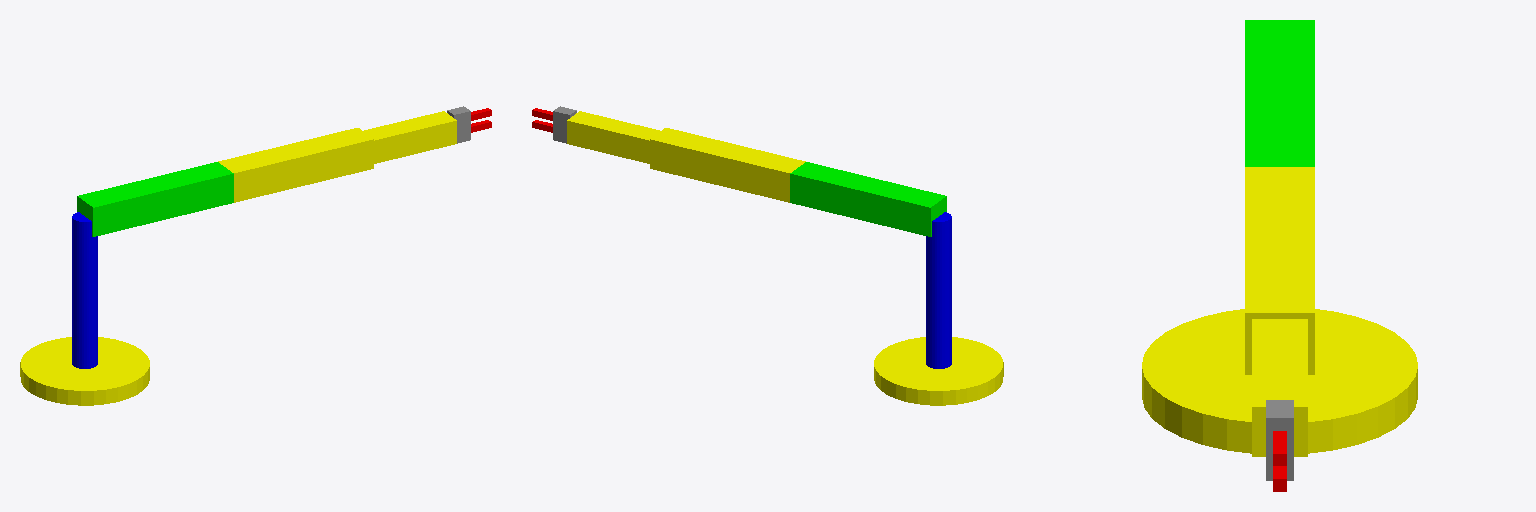
robot.urdf — simple_robot_with_gripper:
<?xml version="1.0"?>
<robot name="simple_robot_with_gripper">

  <link name="base_link">
    <visual>
      <geometry>
        <cylinder length="0.05" radius="0.2"/>
      </geometry>
      <origin rpy="0 0 0" xyz="0 0 0"/>
      <material name="yellow">
        <color rgba="1 1 0 1"/>
      </material>
    </visual>
  </link>

  <joint name="joint_1" type="revolute">
    <parent link="base_link"/>
    <child link="first_link"/>
    <origin xyz="0 0 0.025"/>
    <axis xyz="0 0 1"/>
    <limit effort="300" velocity="2.0" lower="-2.2" upper="2.2"/>
  </joint>

  <link name="first_link">
    <visual>
      <geometry>
        <cylinder length="0.5" radius="0.04"/>
      </geometry>
      <origin rpy="0 0 0" xyz="0 0 0.25"/>
      <material name="blue">
        <color rgba="0 0 1 1"/>
      </material>
    </visual>
  </link>

  <joint name="joint_2" type="revolute">
    <parent link="first_link"/>
    <child link="second_link"/>
    <origin xyz="0 0 0.5" rpy="1.57079633 0 0"/>
    <axis xyz="0 0 1"/>
    <limit effort="300" velocity="2.0" lower="-2.2" upper="2.2"/>
  </joint>

  <link name="second_link">
    <visual>
      <geometry>
        <box size="0.5 0.1 0.1"/>
      </geometry>
      <origin rpy="0 0 0" xyz="0.25 0 0"/>
      <material name="green">
        <color rgba="0 1 0 1"/>
      </material>
    </visual>
  </link>

  <joint name="joint_3" type="revolute">
    <parent link="second_link"/>
    <child link="third_link"/>
    <origin xyz="0.5 0 0"/>
    <axis xyz="0 0 1"/>
    <limit effort="300" velocity="2.0" lower="-2.2" upper="2.2"/>
  </joint>

  <link name="third_link">
    <visual>
      <geometry>
        <box size="0.5 0.1 0.1"/>
      </geometry>
      <origin rpy="0 0 0" xyz="0.25 0 0"/>
      <material name="yellow">
        <color rgba="1 1 0 1"/>
      </material>
    </visual>
  </link>

  <joint name="joint_4" type="revolute">
    <parent link="third_link"/>
    <child link="fourth_link"/>
    <origin xyz="0.5 0 0"/>
    <axis xyz="0 1 0"/>
    <limit effort="300" velocity="2.0" lower="-1.2" upper="1"/>
  </joint>

  <link name="fourth_link">
    <visual>
      <geometry>
        <box size="0.15 0.08 0.08"/>
      </geometry>
      <origin rpy="0 0 0" xyz="0.075 0 0"/>
      <material name="yellow">
        <color rgba="1 1 0 1"/>
      </material>
    </visual>
  </link>

  <joint name="joint_5" type="revolute">
    <parent link="fourth_link"/>
    <child link="fifth_link"/>
    <origin xyz="0.15 0 0"/>
    <axis xyz="1 0 0"/>
    <limit effort="300" velocity="2.0" lower="-1.2" upper="1"/>
  </joint>

  <link name="fifth_link">
    <visual>
      <geometry>
        <box size="0.15 0.08 0.08"/>
      </geometry>
      <origin rpy="0 0 0" xyz="0.075 0 0"/>
      <material name="yellow">
        <color rgba="1 1 0 1"/>
      </material>
    </visual>
  </link>

  <!-- ========================= -->
  <!-- GRIPPER (2 FINGERS) START -->
  <!-- ========================= -->

  <!-- Gripper palm/base attached to the end of fifth_link -->
  <joint name="gripper_mount" type="fixed">
    <parent link="fifth_link"/>
    <child link="gripper_base"/>
    <!-- fifth_link length is 0.15, so end is at x=0.15 -->
    <origin xyz="0.15 0 0" rpy="0 0 0"/>
  </joint>

  <link name="gripper_base">
    <visual>
      <geometry>
        <!-- small palm block -->
        <box size="0.06 0.10 0.04"/>
      </geometry>
      <origin xyz="0.03 0 0"/>
      <material name="grey">
        <color rgba="0.6 0.6 0.6 1"/>
      </material>
    </visual>
  </link>

  <!-- Left finger slides along +Y/-Y direction (opening/closing) -->
  <joint name="left_finger_joint" type="prismatic">
    <parent link="gripper_base"/>
    <child link="left_finger"/>
    <!-- place joint at front of palm -->
    <origin xyz="0.06 0 0" rpy="0 0 0"/>
    <!-- slide along Y -->
    <axis xyz="0 1 0"/>
    <!-- 0.0 = closed, 0.03 = open outward -->
    <limit lower="0.0" upper="0.03" effort="50" velocity="0.2"/>
  </joint>

  <link name="left_finger">
    <visual>
      <geometry>
        <!-- thin finger -->
        <box size="0.08 0.02 0.02"/>
      </geometry>
      <!-- extend finger forward in +X -->
      <origin xyz="0.04 0.02 0"/>
      <material name="red">
        <color rgba="1 0 0 1"/>
      </material>
    </visual>
  </link>

  <!-- Right finger slides opposite direction (negative Y) -->
  <joint name="right_finger_joint" type="prismatic">
    <parent link="gripper_base"/>
    <child link="right_finger"/>
    <origin xyz="0.06 0 0" rpy="0 0 0"/>
    <!-- slide along -Y -->
    <axis xyz="0 -1 0"/>
    <limit lower="0.0" upper="0.03" effort="50" velocity="0.2"/>
  </joint>

  <link name="right_finger">
    <visual>
      <geometry>
        <box size="0.08 0.02 0.02"/>
      </geometry>
      <origin xyz="0.04 -0.02 0"/>
      <material name="red">
        <color rgba="1 0 0 1"/>
      </material>
    </visual>
  </link>

  <!-- ======================= -->
  <!-- GRIPPER (2 FINGERS) END -->
  <!-- ======================= -->

</robot>

--- Render facts (derived) ---
3 views of the same robot in one strip: view 1: azimuth 30°, elevation 25°; view 2: azimuth 150°, elevation 25°; view 3: azimuth 270°, elevation 25° (orthographic).
Robot: simple_robot_with_gripper — 9 links, 8 joints (5 revolute, 2 prismatic, 1 fixed); root link base_link; default pose: every joint at zero.
Links seen in each view (by area): view 1: base_link, second_link, third_link, first_link, fifth_link, fourth_link, gripper_base; view 2: base_link, second_link, third_link, first_link, fifth_link, fourth_link, gripper_base; view 3: base_link, third_link, second_link, fifth_link, fourth_link, gripper_base.
Boxes of the visible links, x1,y1,x2,y2 form: base_link: (20,337,149,405); second_link: (77,162,233,236); third_link: (218,128,373,202); first_link: (72,212,97,368); fifth_link: (402,111,456,153); fourth_link: (364,121,414,163); gripper_base: (447,106,470,143); base_link: (874,337,1003,405); second_link: (790,162,946,236); third_link: (650,128,805,202); first_link: (926,212,951,368); fifth_link: (567,111,621,153); fourth_link: (609,121,659,163); gripper_base: (553,106,576,143); base_link: (1142,309,1417,453); third_link: (1245,167,1314,374); second_link: (1245,20,1314,166); fifth_link: (1252,363,1307,456); fourth_link: (1252,319,1307,362); gripper_base: (1266,400,1293,480).
Bounding box of the posed robot: 1.64 × 0.4 × 0.6 m (x, y, z).
Geometry: primitives only (box / cylinder / sphere), no mesh files.
